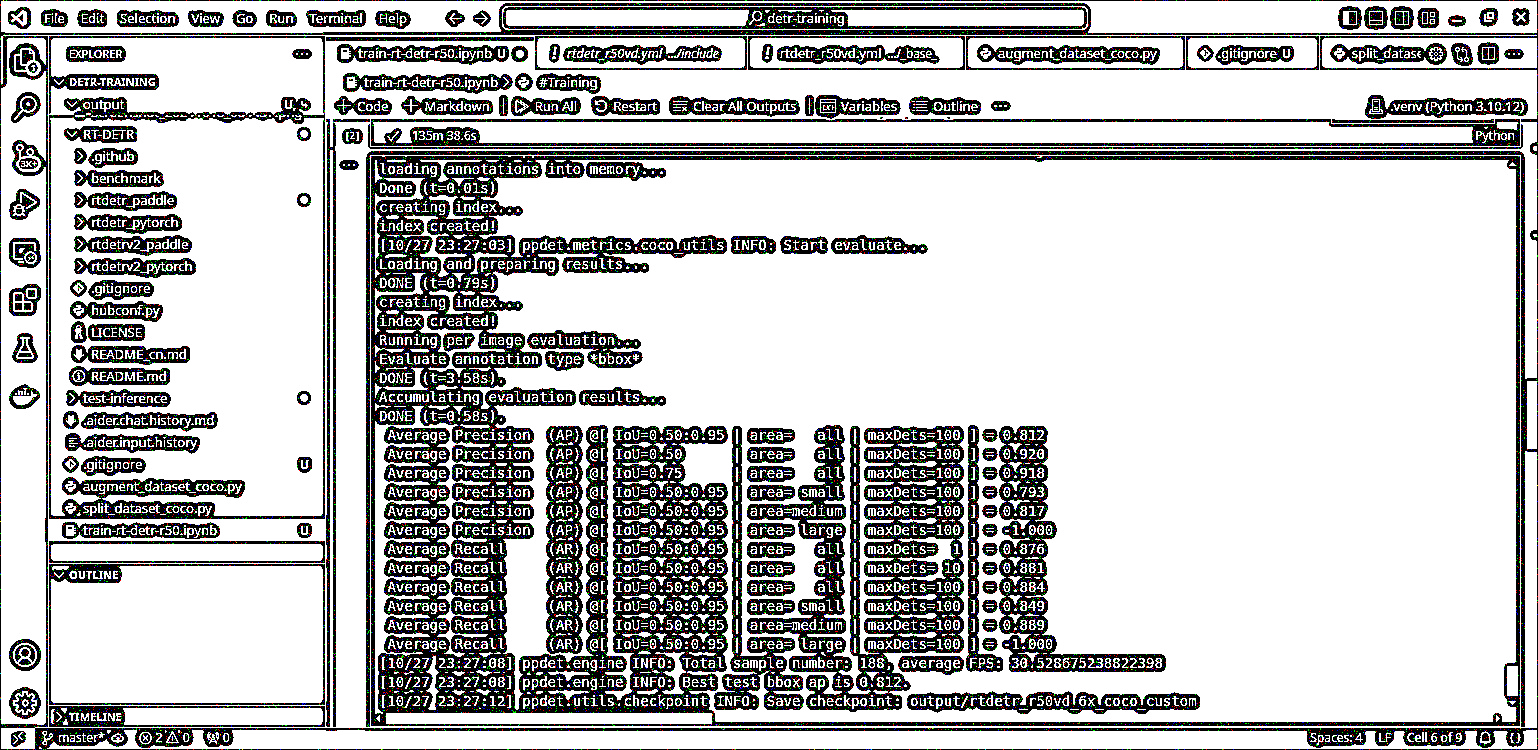Accounts: (5, 637, 41, 676)
Activity Bar: (1, 35, 50, 729)
Close: (1503, 4, 1530, 27)
Editor: (325, 33, 1535, 730)
Explorer: (4, 41, 43, 77)
Extensions: (5, 276, 40, 318)
Manage: (7, 685, 42, 720)
Maximize: (1477, 5, 1497, 25)
Minimize: (1445, 5, 1469, 27)
Primary Side Bar: (45, 32, 329, 731)
Run and Debug: (4, 184, 39, 225)
Search: (7, 83, 39, 128)
Search Bar: (497, 4, 1093, 31)
Source Control: (5, 136, 41, 181)
Status Bar: (0, 725, 1535, 747)
Testing: (7, 330, 41, 363)
Top Bar: (1, 1, 1535, 37)
